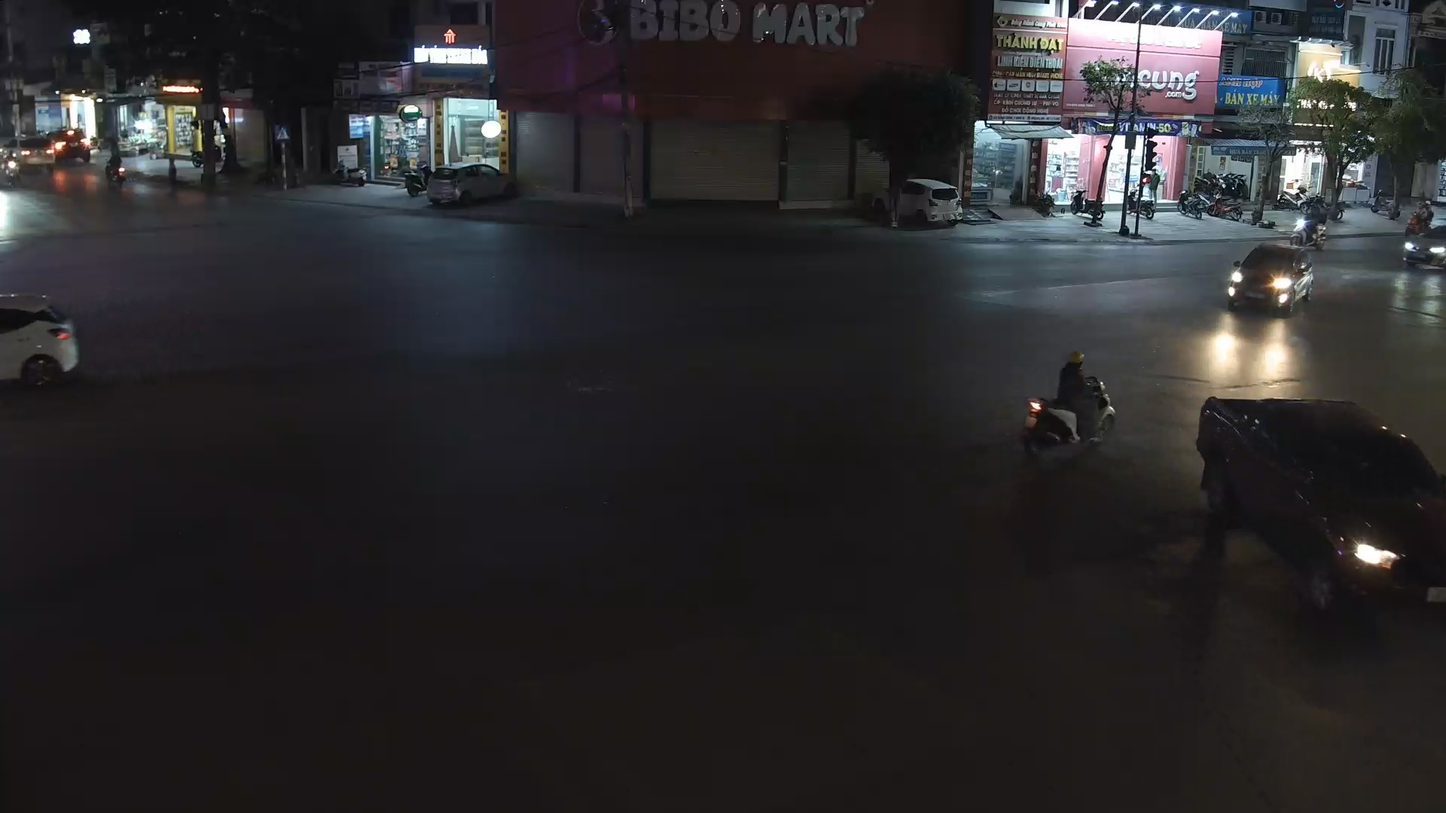car: (1195, 395, 1445, 621), (0, 290, 82, 397), (1225, 239, 1317, 315), (1402, 223, 1445, 275)
motorbike: (1019, 348, 1117, 460)
